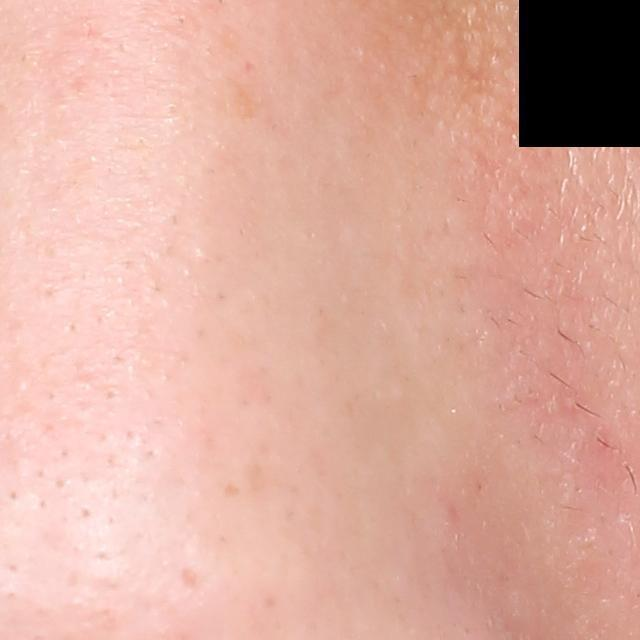atrophic_scar: (178, 563, 209, 597)
